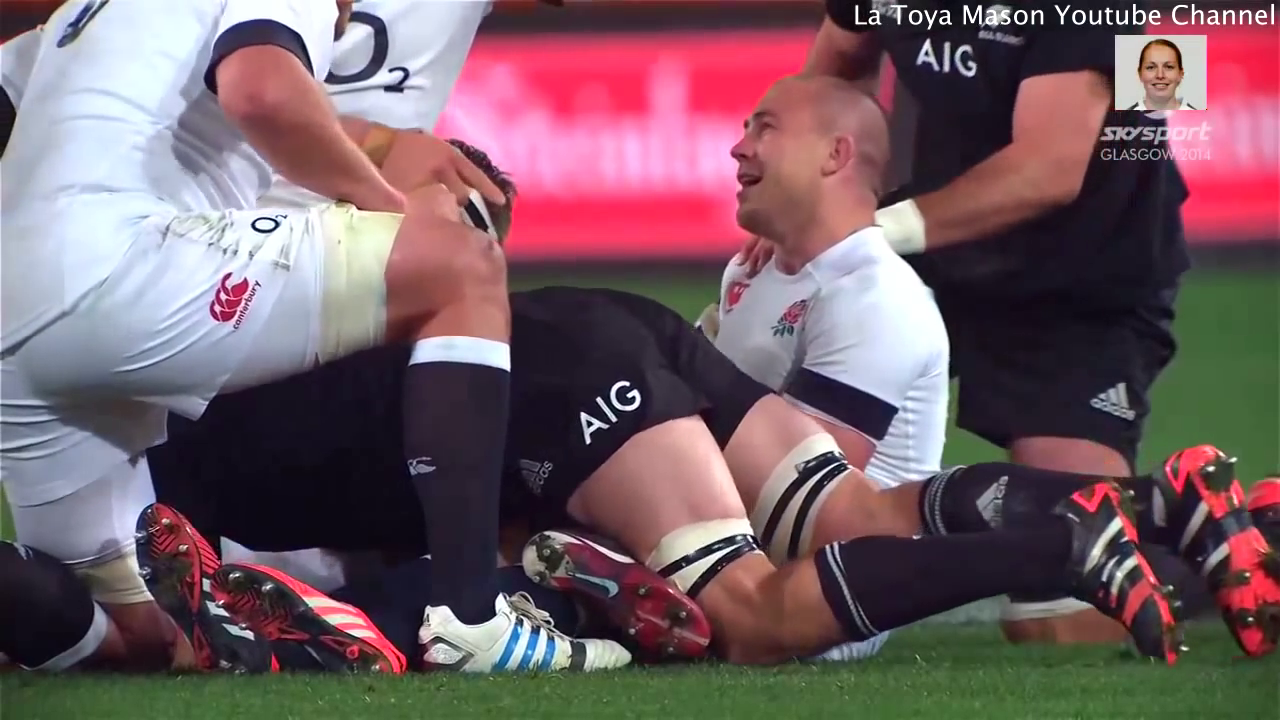player: (15, 1, 629, 664), (491, 273, 1280, 659), (825, 9, 1197, 468), (710, 68, 953, 479)
